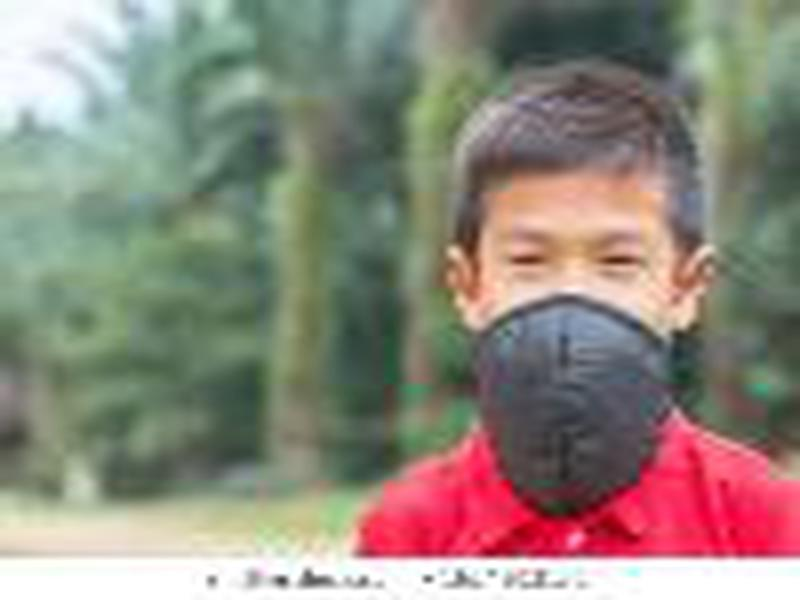with_mask: (469, 158, 683, 514)
